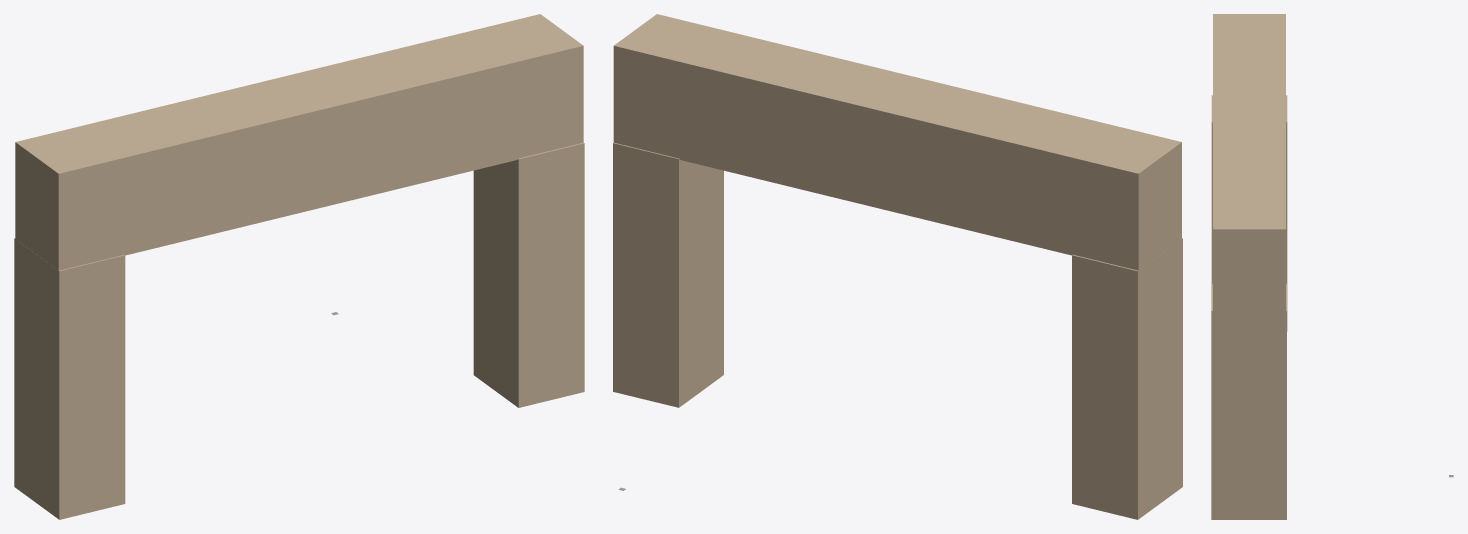
The model's file is Supportwall.fbx.
3 views of the same model, side by side, from view 1: azimuth 30°, elevation 25°; view 2: azimuth 150°, elevation 25°; view 3: azimuth 270°, elevation 25° (orthographic). The views are drawn at different scales.
Parts seen in each view (by area): view 1: pCube3, pCube1, pCube2; view 2: pCube3, pCube1, pCube2; view 3: pCube3, pCube2, pCube1.
Boxes of the visible parts, left/top/right/bottom form: pCube3: left=15, top=14, right=583, bottom=270; pCube1: left=14, top=238, right=125, bottom=519; pCube2: left=473, top=142, right=584, bottom=407; pCube3: left=613, top=14, right=1181, bottom=270; pCube1: left=1072, top=238, right=1182, bottom=519; pCube2: left=613, top=142, right=723, bottom=407; pCube3: left=1213, top=14, right=1285, bottom=311; pCube2: left=1211, top=283, right=1286, bottom=519; pCube1: left=1211, top=95, right=1287, bottom=331.
Size of the model in its own units: 24.03 by 15.11 by 11.42.
